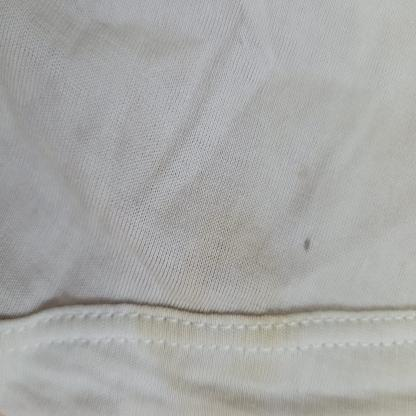spot: (300, 235, 315, 250)
